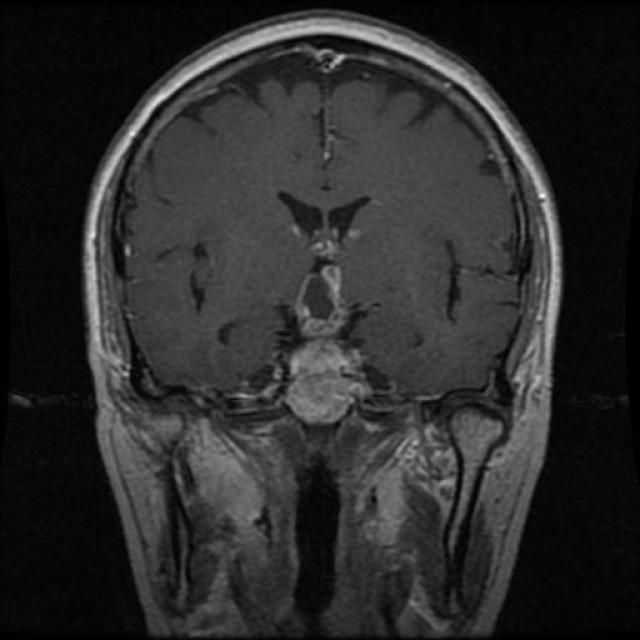pituitary: (268, 212, 404, 432)
